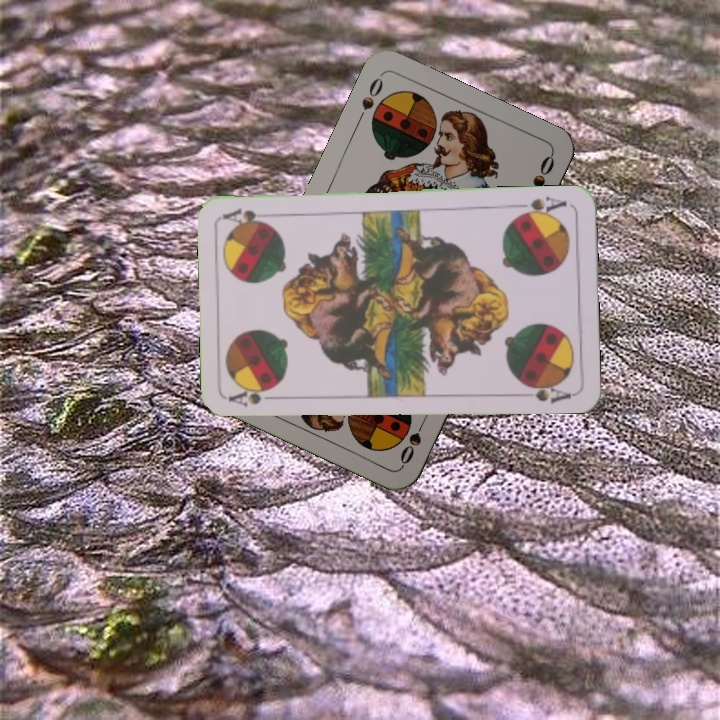SA: (511, 192, 570, 220), (225, 384, 284, 410)
SO: (395, 412, 430, 468), (353, 71, 386, 127)
